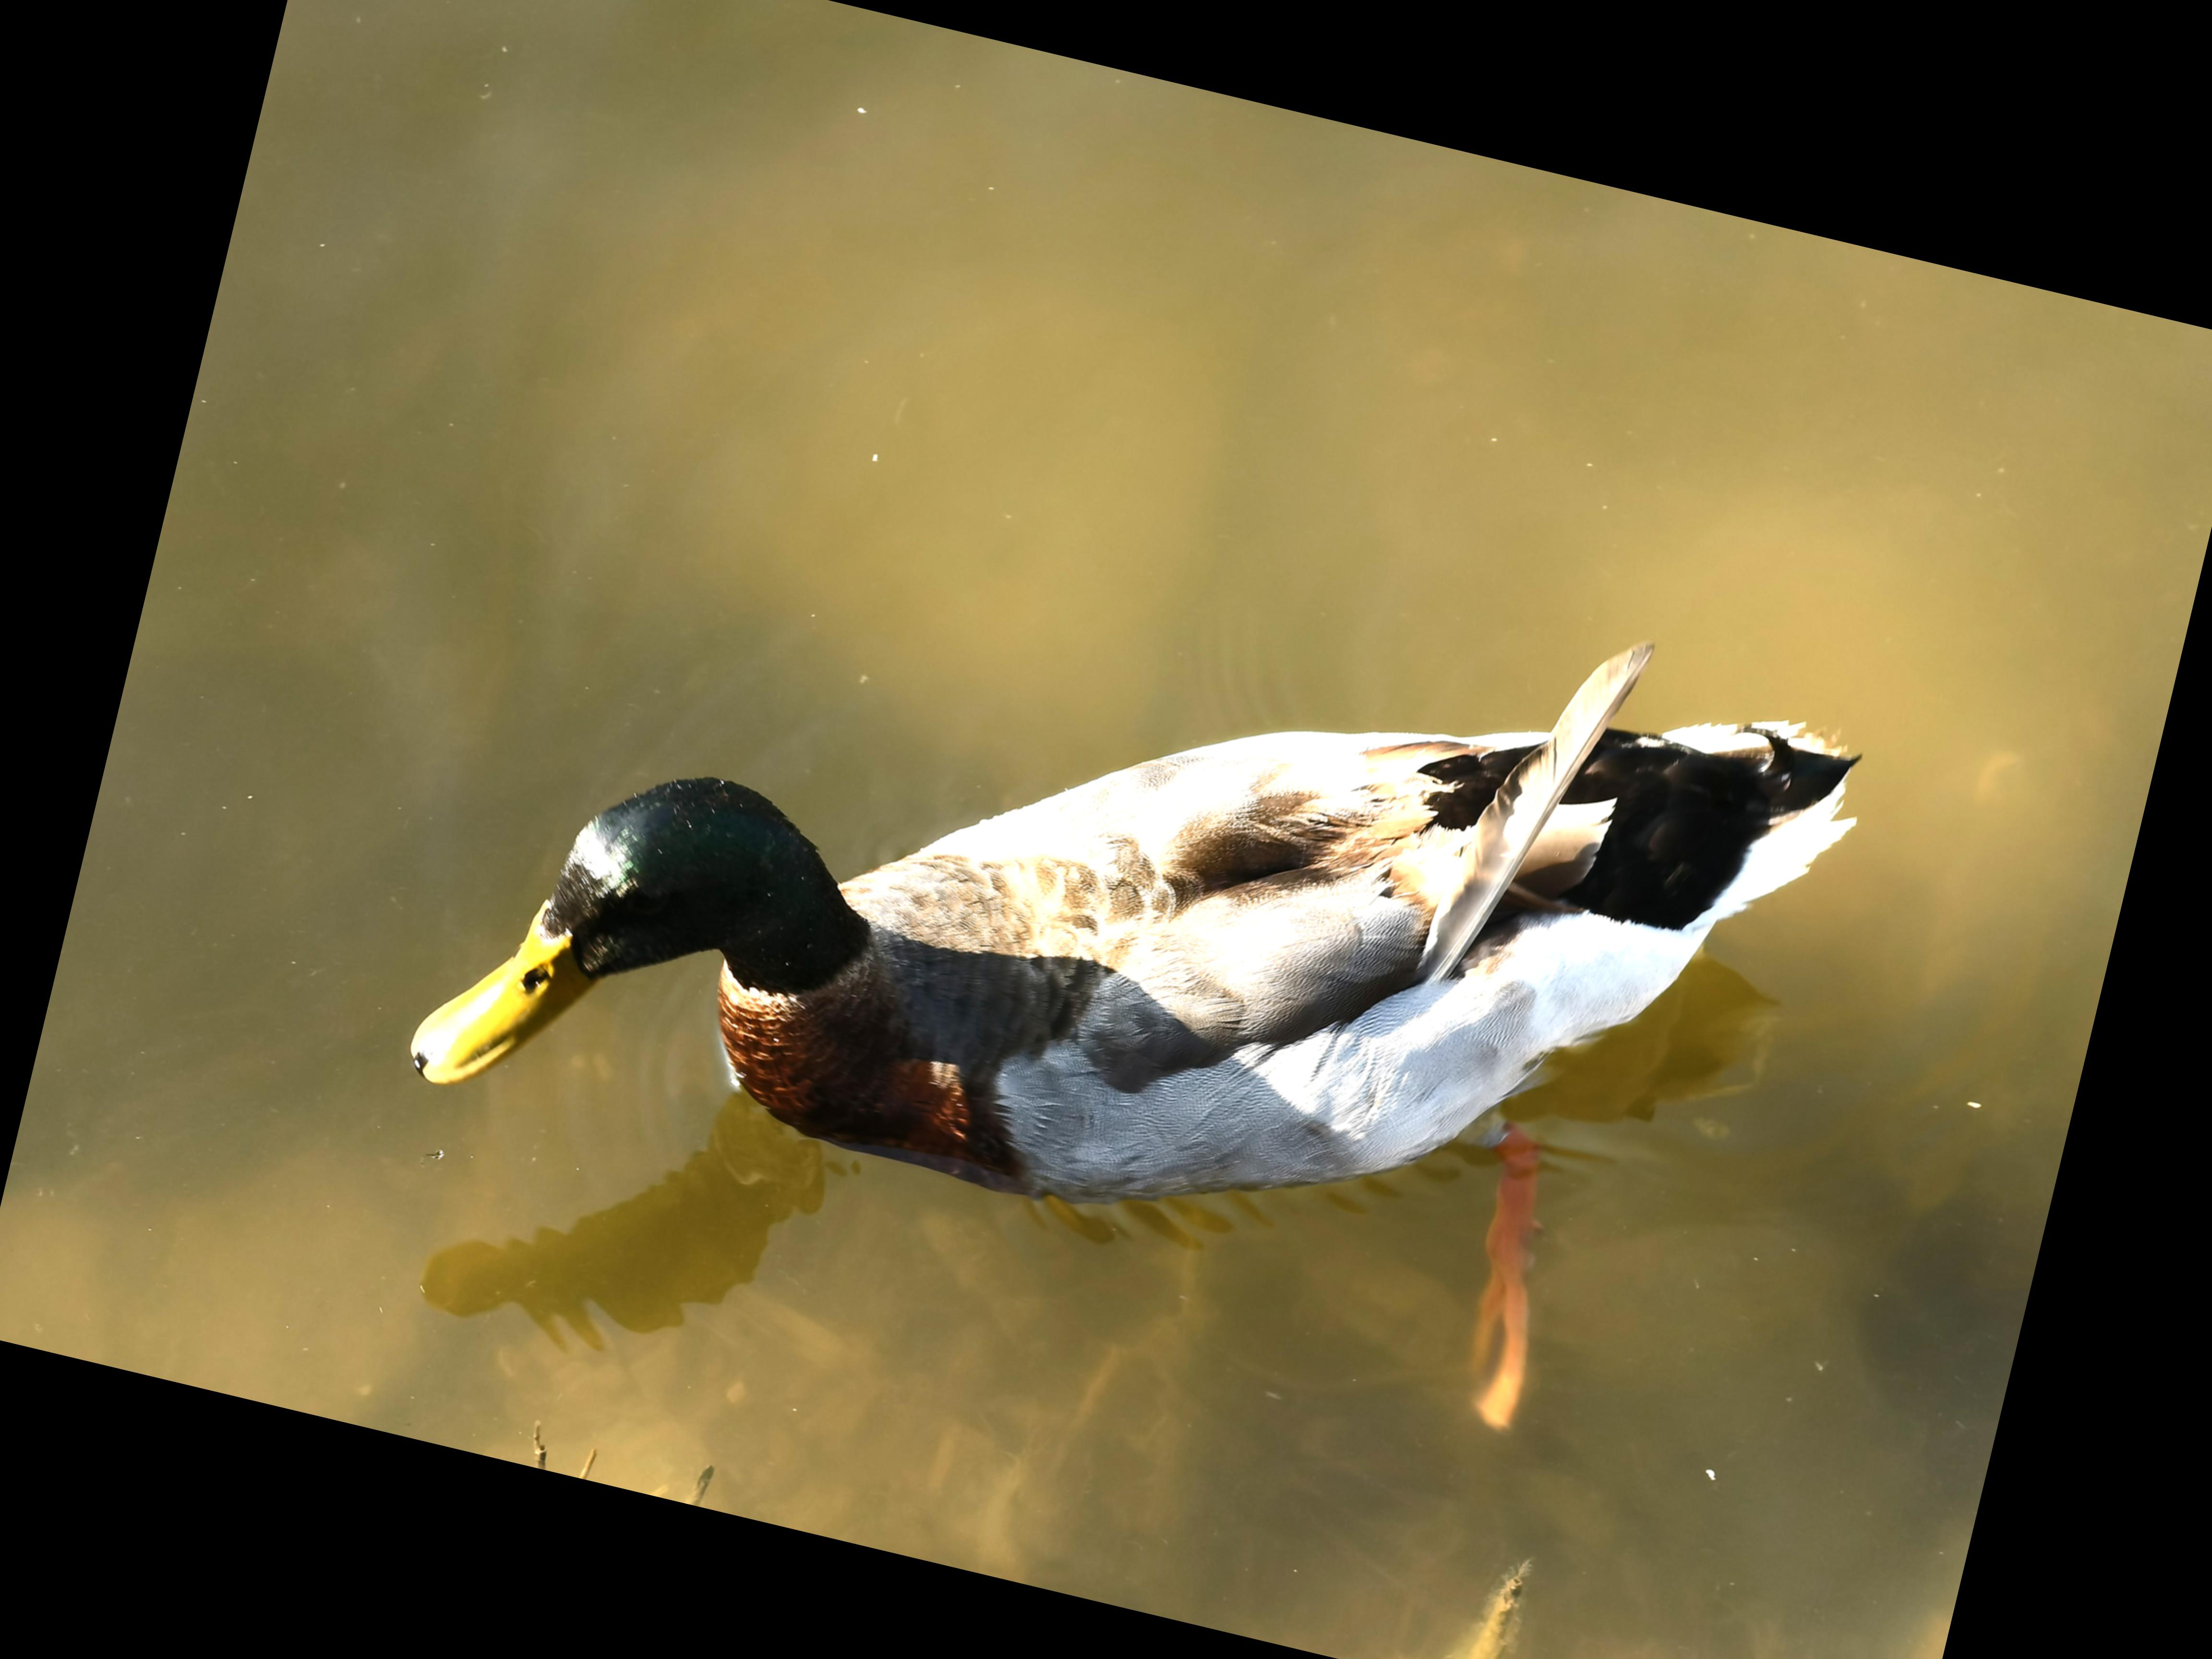duck: (341, 350, 1933, 1480)
